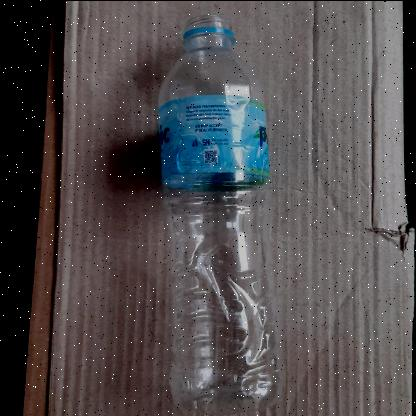Plastic Bottle: (156, 11, 280, 415)
